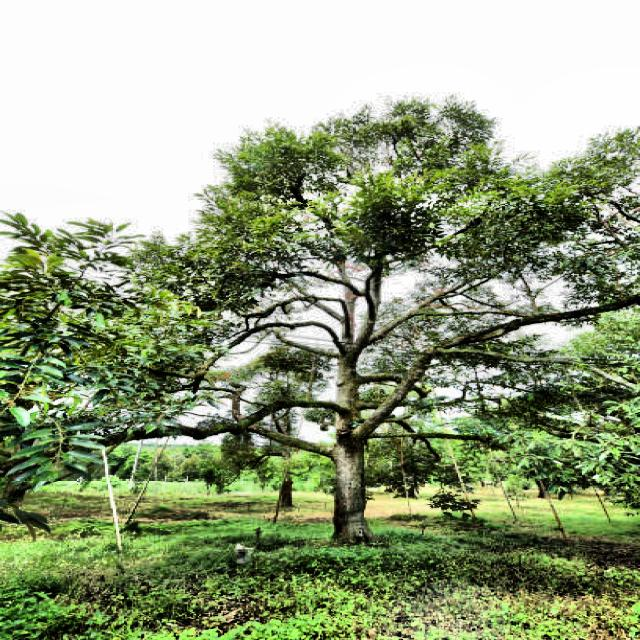arvore: (304, 288, 389, 549)
